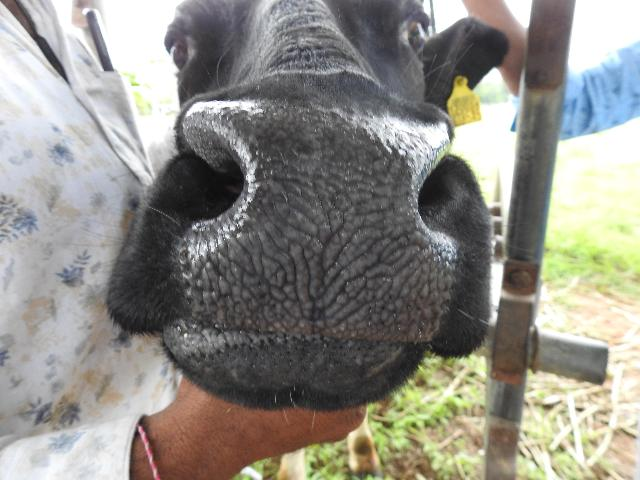Muzzle: (241, 109, 413, 325)
